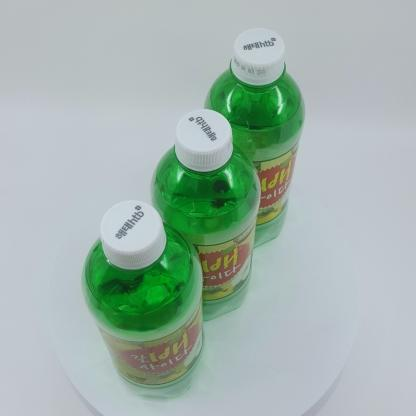-------500ML: (81, 200, 205, 398), (149, 109, 261, 321), (203, 28, 306, 249)
